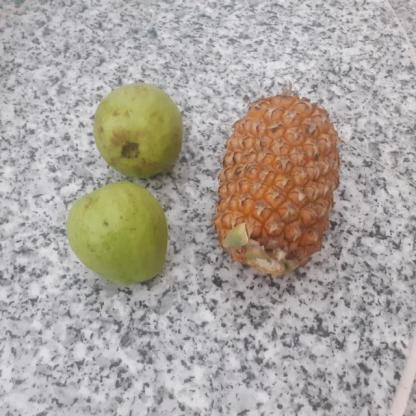guava: (62, 184, 168, 283), (91, 85, 183, 176)
pineapple: (213, 96, 338, 272)
